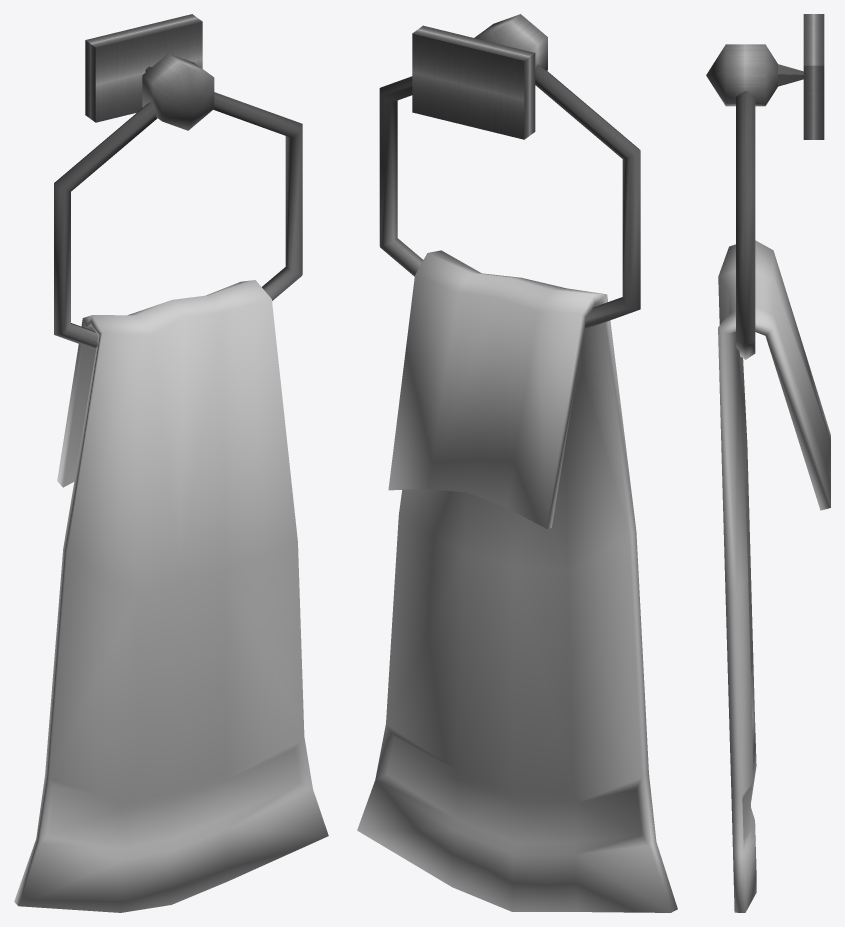
File: Hand_Towel.FBX
The picture shows the model from 3 angles, left to right: view 1: azimuth 30°, elevation 25°; view 2: azimuth 150°, elevation 25°; view 3: azimuth 270°, elevation 25°; orthographic projection. The views are drawn at different scales.
Visible parts, largest first — view 1: Hand_Towel; view 2: Hand_Towel; view 3: Hand_Towel.
Part boxes in pixels (x1,y1,x2,y2): Hand_Towel: [14, 14, 328, 912]; Hand_Towel: [357, 14, 677, 912]; Hand_Towel: [706, 14, 830, 912].
Size of the model in its own units: 34.08 by 90.19 by 12.18.
